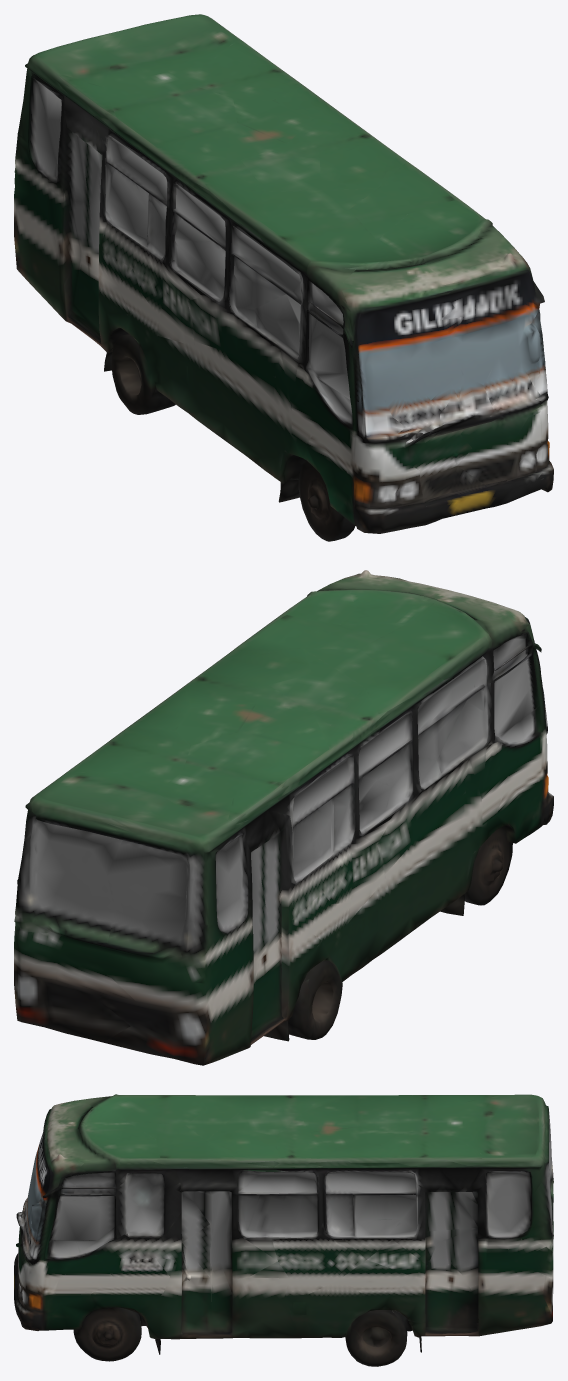
File: bis_mini.glb
The picture shows the model from 3 angles, top to bottom: view 1: azimuth 30°, elevation 25°; view 2: azimuth 150°, elevation 25°; view 3: azimuth 270°, elevation 25°; orthographic projection. The views are drawn at different scales.
Visible parts, largest first — view 1: tripo_node_d304d104; view 2: tripo_node_d304d104; view 3: tripo_node_d304d104.
Boxes of the visible parts, x1,y1,x2,y2 form: tripo_node_d304d104: [14, 14, 553, 541]; tripo_node_d304d104: [14, 570, 553, 1065]; tripo_node_d304d104: [14, 1094, 553, 1366].
Bounding box in the file's own units: 31.69 × 42.51 × 100.
1 material, 1 textured.
